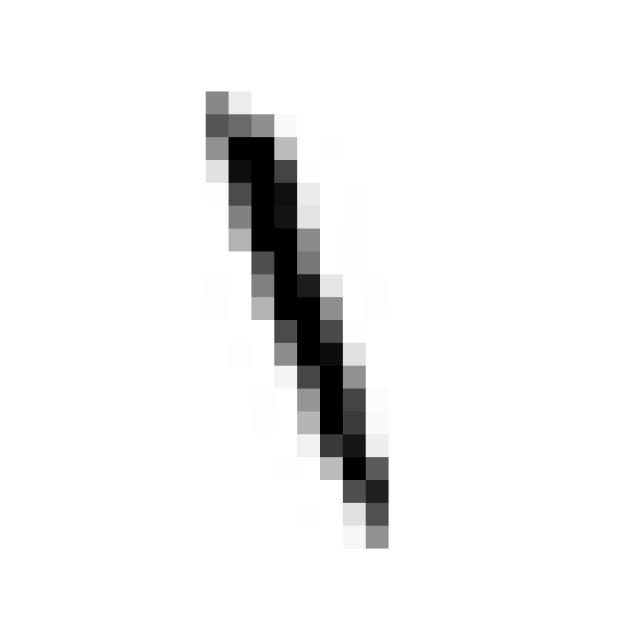1 -one-: (183, 76, 401, 564)
